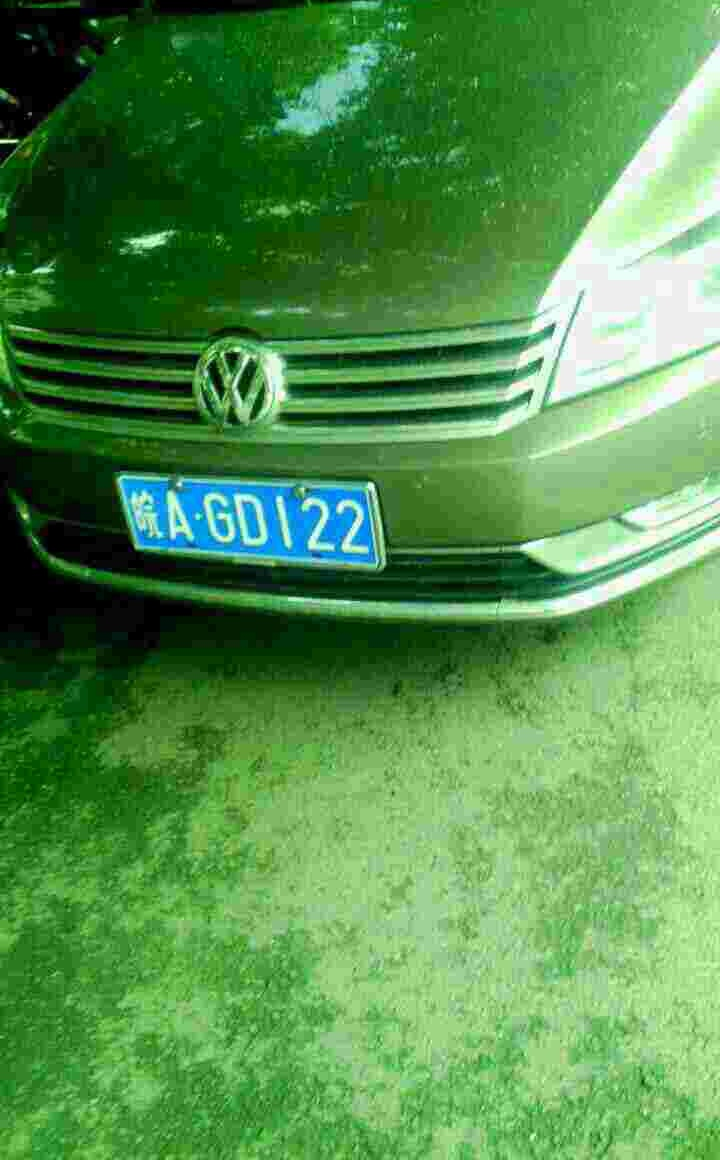license_plate: (125, 482, 364, 548)
